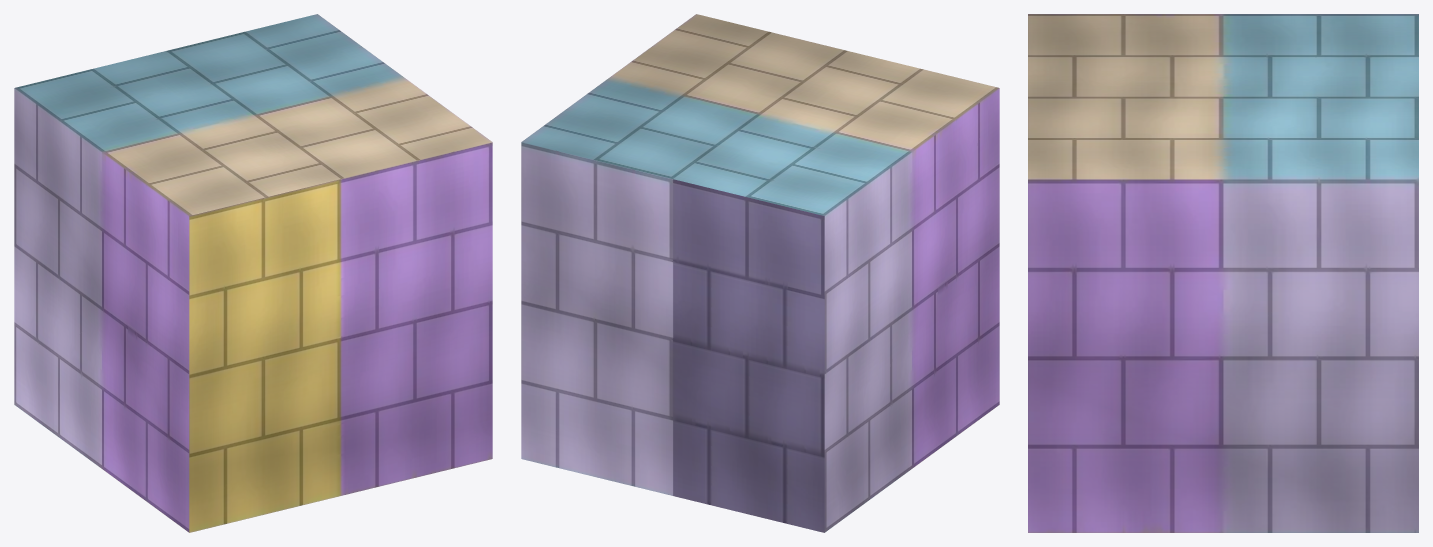
The model's file is wall_stone_corner.glb.
3 renders of one model, left to right at view 1: azimuth 30°, elevation 25°; view 2: azimuth 150°, elevation 25°; view 3: azimuth 270°, elevation 25°, orthographic. The views are drawn at different scales.
Visible parts, largest first — view 1: col; view 2: col; view 3: col.
Part boxes in pixels (x1,y1,x2,y2): col: [14, 14, 492, 532]; col: [521, 14, 999, 532]; col: [1028, 14, 1418, 532].
Bounding box in the file's own units: 1.99 × 1.98 × 1.99.
1 material, 1 textured.
